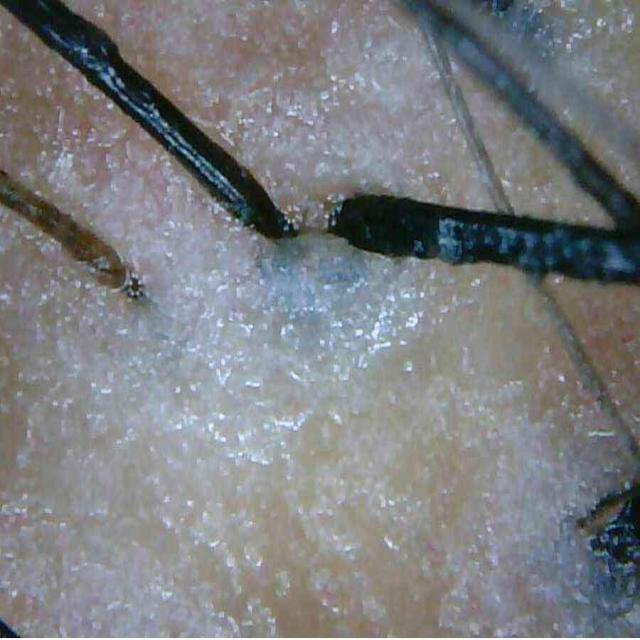o: (0, 110, 474, 482), (176, 39, 486, 227), (428, 373, 640, 640), (0, 473, 244, 640), (292, 431, 435, 625), (138, 481, 272, 612), (520, 0, 640, 124)
